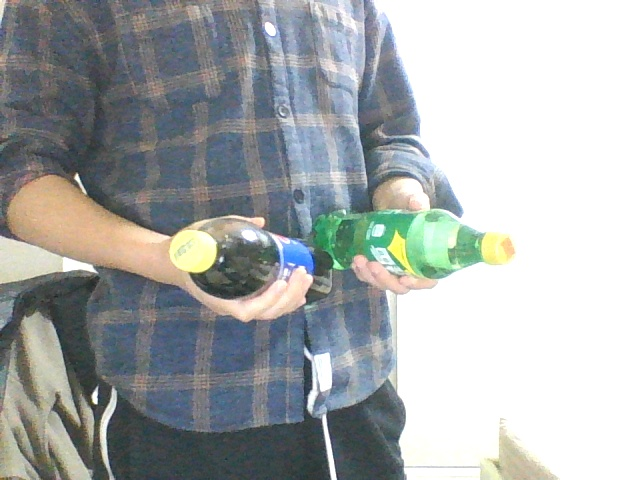Cola: (169, 217, 333, 305)
Sprite: (308, 208, 516, 278)
